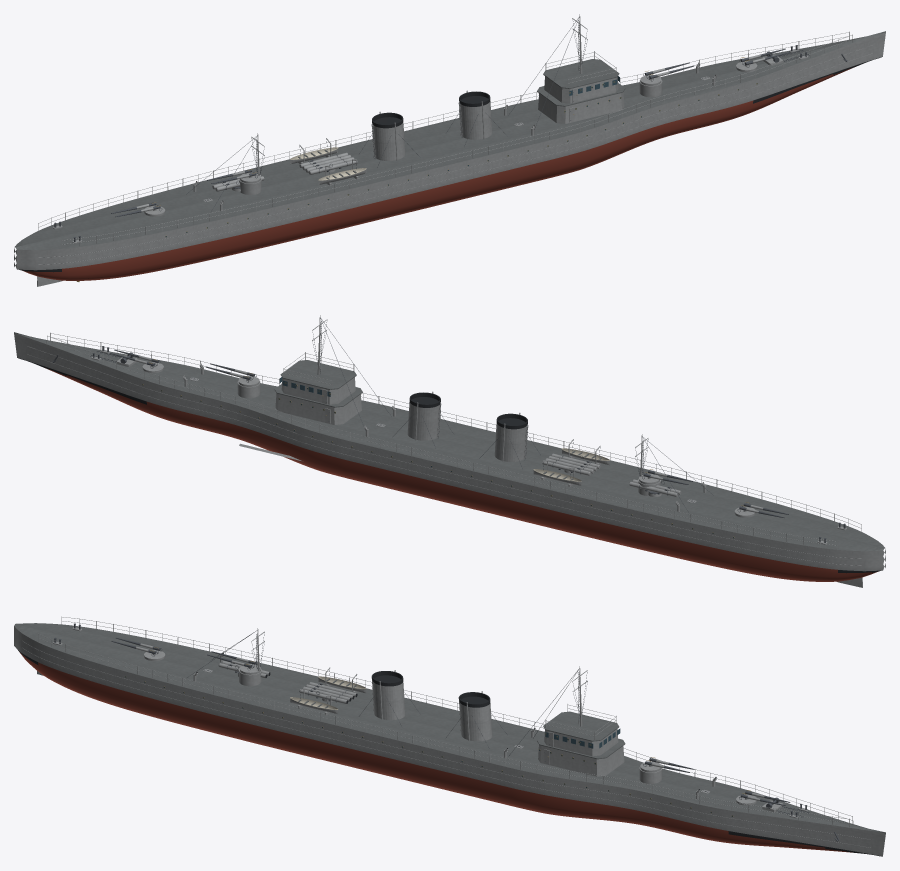
Rendered from leone.glb.
3 views of the same model, one above another, from view 1: azimuth 30°, elevation 25°; view 2: azimuth 150°, elevation 25°; view 3: azimuth 330°, elevation 25° (orthographic).
Visible parts, largest first — view 1: Leone class (esploratori); view 2: Leone class (esploratori); view 3: Leone class (esploratori).
Boxes of the visible parts, <box> form: Leone class (esploratori): <box>14,14,885,286</box>; Leone class (esploratori): <box>14,315,885,587</box>; Leone class (esploratori): <box>14,616,885,856</box>.
Bounding box in the file's own units: 113 × 17.7 × 10.39.
Materials: 8 (2 with a texture image).
